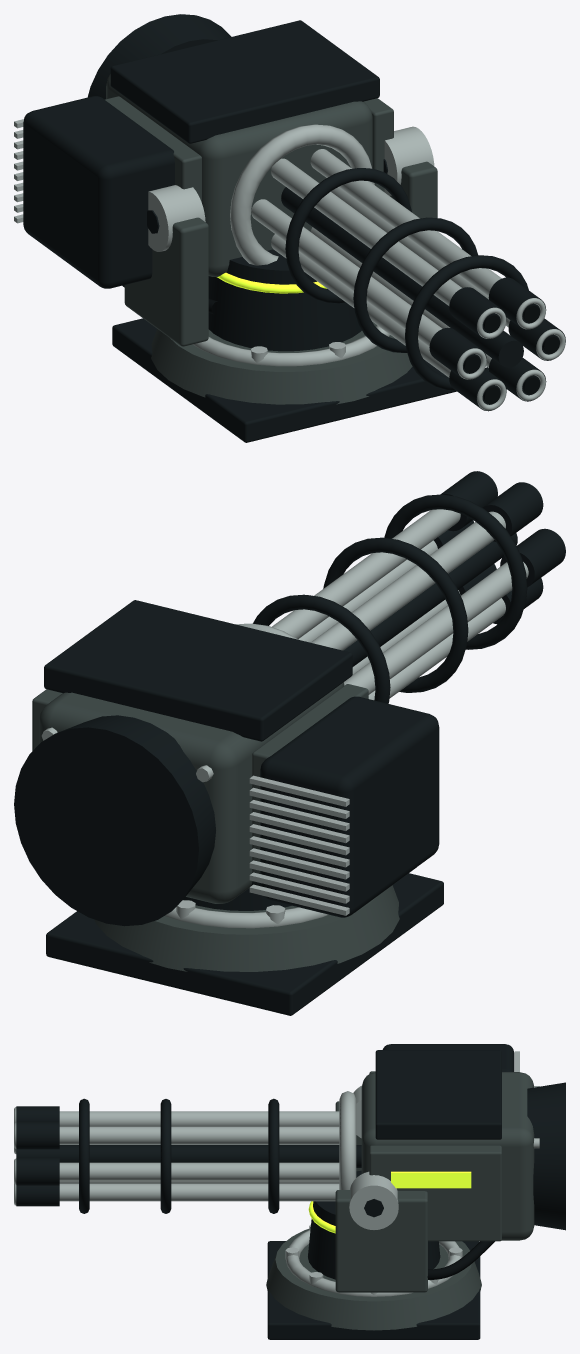
File: rotary-cannon-lod0.glb
3 renders of one model, top to bottom at view 1: azimuth 30°, elevation 25°; view 2: azimuth 150°, elevation 25°; view 3: azimuth 270°, elevation 25°, orthographic. The views are drawn at different scales.
Visible parts, largest first — view 1: feed__Recessed_carbon_mechanism, armor__Recessed_carbon_mechanism, rotary-barrels__Machined_titanium, mount__Cerakote_graphite_armor, receiver__Cerakote_graphite_armor, barrel-clamp__Recessed_carbon_mechanism, yaw-drive__Recessed_carbon_mechanism, cradle__Cerakote_graphite_armor, mount__Recessed_carbon_mechanism, muzzle-brakes__Recessed_carbon_mechanism, barrel-clamp__Machined_titanium, rotary-barrels__Recessed_carbon_mechanism (+8 smaller); view 2: receiver__Recessed_carbon_mechanism, armor__Recessed_carbon_mechanism, feed__Recessed_carbon_mechanism, rotary-barrels__Machined_titanium, mount__Cerakote_graphite_armor, mount__Recessed_carbon_mechanism, receiver__Cerakote_graphite_armor, barrel-clamp__Recessed_carbon_mechanism, feed__Machined_titanium, muzzle-brakes__Recessed_carbon_mechanism, rotary-barrels__Recessed_carbon_mechanism, armor__Cerakote_graphite_armor (+2 smaller); view 3: rotary-barrels__Machined_titanium, armor__Recessed_carbon_mechanism, armor__Cerakote_graphite_armor, mount__Cerakote_graphite_armor, cradle__Cerakote_graphite_armor, receiver__Cerakote_graphite_armor, mount__Recessed_carbon_mechanism, rotary-barrels__Recessed_carbon_mechanism, receiver__Recessed_carbon_mechanism, muzzle-brakes__Recessed_carbon_mechanism, barrel-clamp__Recessed_carbon_mechanism, trunnion__Machined_titanium (+7 smaller).
Part boxes in pixels (box(x1,y1,x2,y2)): feed__Recessed_carbon_mechanism: box(23, 96, 174, 288); armor__Recessed_carbon_mechanism: box(110, 20, 379, 143); rotary-barrels__Machined_titanium: box(251, 149, 510, 377); mount__Cerakote_graphite_armor: box(151, 322, 412, 404); receiver__Cerakote_graphite_armor: box(106, 74, 372, 276); barrel-clamp__Recessed_carbon_mechanism: box(285, 168, 528, 390); yaw-drive__Recessed_carbon_mechanism: box(208, 249, 361, 351); cradle__Cerakote_graphite_armor: box(124, 161, 437, 346); mount__Recessed_carbon_mechanism: box(112, 318, 456, 442); muzzle-brakes__Recessed_carbon_mechanism: box(429, 277, 565, 411); barrel-clamp__Machined_titanium: box(230, 124, 374, 265); rotary-barrels__Recessed_carbon_mechanism: box(281, 187, 523, 367); receiver__Recessed_carbon_mechanism: box(14, 715, 215, 926); armor__Recessed_carbon_mechanism: box(44, 600, 352, 741); feed__Recessed_carbon_mechanism: box(260, 696, 439, 917); rotary-barrels__Machined_titanium: box(272, 509, 528, 700); mount__Cerakote_graphite_armor: box(94, 885, 399, 971); mount__Recessed_carbon_mechanism: box(46, 873, 443, 1015); receiver__Cerakote_graphite_armor: box(39, 682, 344, 903); barrel-clamp__Recessed_carbon_mechanism: box(253, 494, 527, 703); feed__Machined_titanium: box(249, 775, 349, 915); muzzle-brakes__Recessed_carbon_mechanism: box(433, 471, 565, 624); rotary-barrels__Recessed_carbon_mechanism: box(343, 533, 517, 666); armor__Cerakote_graphite_armor: box(32, 684, 368, 873); rotary-barrels__Machined_titanium: box(59, 1111, 339, 1201); armor__Recessed_carbon_mechanism: box(375, 1050, 501, 1139); armor__Cerakote_graphite_armor: box(369, 1071, 501, 1241); mount__Cerakote_graphite_armor: box(266, 1229, 481, 1330); cradle__Cerakote_graphite_armor: box(335, 1101, 427, 1292); receiver__Cerakote_graphite_armor: box(361, 1072, 534, 1240); mount__Recessed_carbon_mechanism: box(267, 1241, 480, 1339); rotary-barrels__Recessed_carbon_mechanism: box(16, 1145, 361, 1167); receiver__Recessed_carbon_mechanism: box(527, 1082, 565, 1230); muzzle-brakes__Recessed_carbon_mechanism: box(16, 1106, 59, 1206); barrel-clamp__Recessed_carbon_mechanism: box(79, 1098, 279, 1213); trunnion__Machined_titanium: box(349, 1085, 398, 1229).
Bounding box in the file's own units: 1.87 × 1.52 × 3.58.
